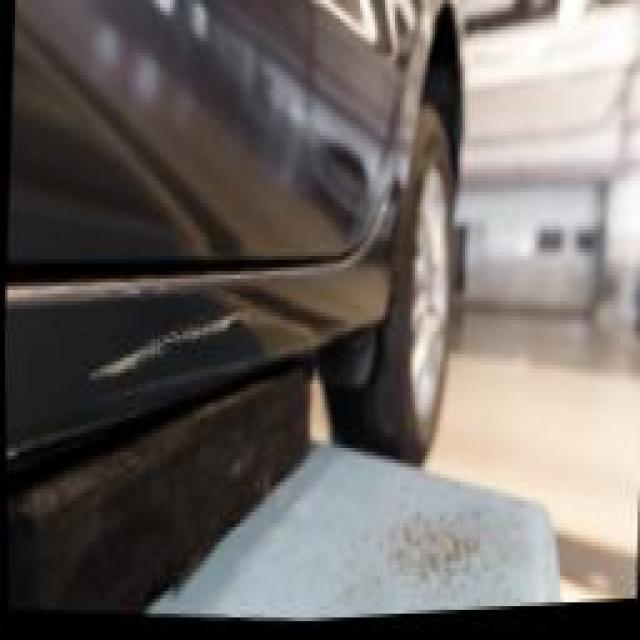Door: (49, 208, 303, 437)
